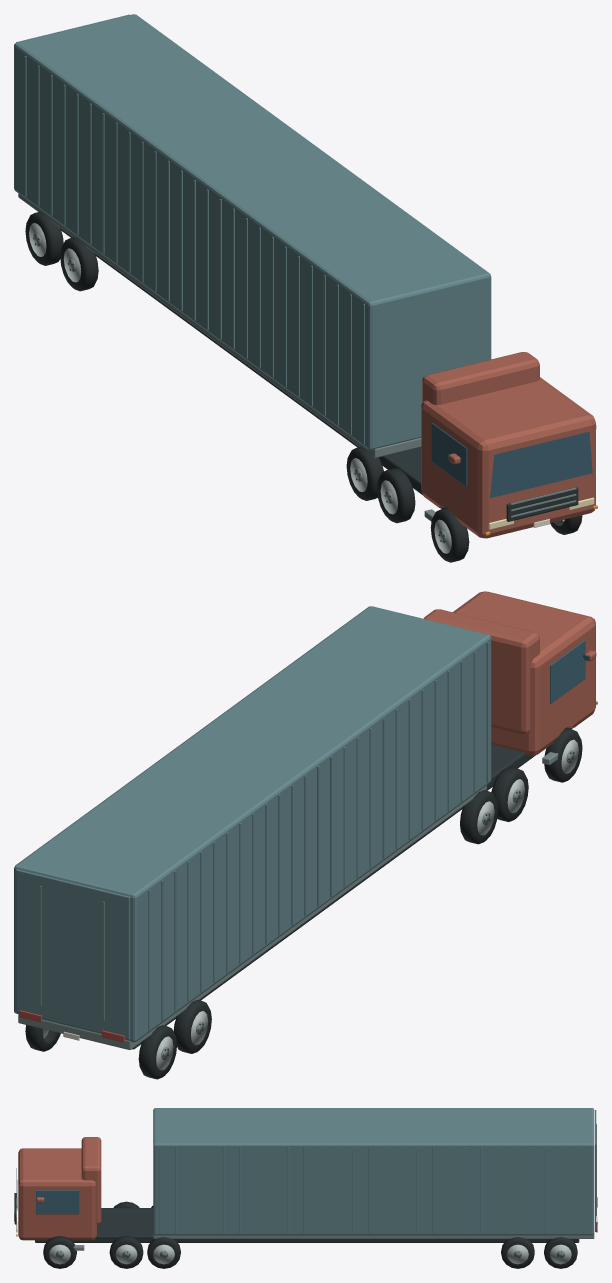
Rendered from original-trailer-container-05.glb.
3 views of the same model, one above another, from view 1: azimuth 30°, elevation 25°; view 2: azimuth 150°, elevation 25°; view 3: azimuth 270°, elevation 25° (orthographic). The views are drawn at different scales.
Visible parts, largest first — view 1: CargoBox, TruckCab, TruckWindscreen, TractorSleeper, TrailerFrame, Frame, CabSideGlass, Tyre_A2R, Tyre_A4R, Tyre_FR, Tyre_RR, CabGrille (+1 smaller); view 2: CargoBox, CargoRearDoors, TruckCab, TractorSleeper, TrailerFrame, Frame, CabSideGlass, Tyre_A3R, Tyre_RR, Tyre_A4R, Tyre_A2R, Tyre_FR; view 3: CargoBox, TruckCab, Frame, TrailerFrame, TractorSleeper, CabSideGlass.001, Tyre_A2L, Tyre_FL, Tyre_RL, Tyre_A3L, Tyre_A4L, Rim_A4L (+9 smaller).
Part boxes in pixels (<box>): CargoBox: <box>14,14,491,450</box>; TruckCab: <box>421,377,595,538</box>; TruckWindscreen: <box>490,431,592,498</box>; TractorSleeper: <box>422,352,539,404</box>; TrailerFrame: <box>18,193,421,458</box>; Frame: <box>60,228,446,508</box>; CabSideGlass: <box>431,423,467,486</box>; Tyre_A2R: <box>377,468,415,523</box>; Tyre_A4R: <box>60,237,98,291</box>; Tyre_FR: <box>430,508,469,562</box>; Tyre_RR: <box>25,211,63,265</box>; CabGrille: <box>506,487,578,521</box>; CargoBox: <box>14,606,491,1042</box>; CargoRearDoors: <box>16,869,130,1039</box>; TruckCab: <box>453,591,595,755</box>; TractorSleeper: <box>423,609,539,734</box>; TrailerFrame: <box>18,785,486,1049</box>; Frame: <box>132,727,572,1049</box>; CabSideGlass: <box>550,640,585,703</box>; Tyre_A3R: <box>460,790,498,844</box>; Tyre_RR: <box>138,1025,177,1079</box>; Tyre_A4R: <box>173,1000,211,1053</box>; Tyre_A2R: <box>491,767,528,821</box>; Tyre_FR: <box>544,728,582,782</box>; CargoBox: <box>153,1108,594,1235</box>; TruckCab: <box>18,1148,96,1240</box>; Frame: <box>35,1208,579,1242</box>; TrailerFrame: <box>153,1234,594,1238</box>; TractorSleeper: <box>81,1137,101,1224</box>; CabSideGlass.001: <box>36,1190,79,1214</box>; Tyre_A2L: <box>109,1236,143,1268</box>; Tyre_FL: <box>43,1236,76,1268</box>; Tyre_RL: <box>544,1237,577,1268</box>; Tyre_A3L: <box>147,1237,180,1268</box>; Tyre_A4L: <box>501,1237,534,1268</box>; Rim_A4L: <box>507,1244,528,1264</box>.
Size of the model in its own units: 2.85 by 3.85 by 16.34.
